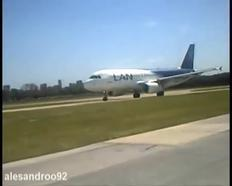aircraft: (83, 42, 223, 101)
